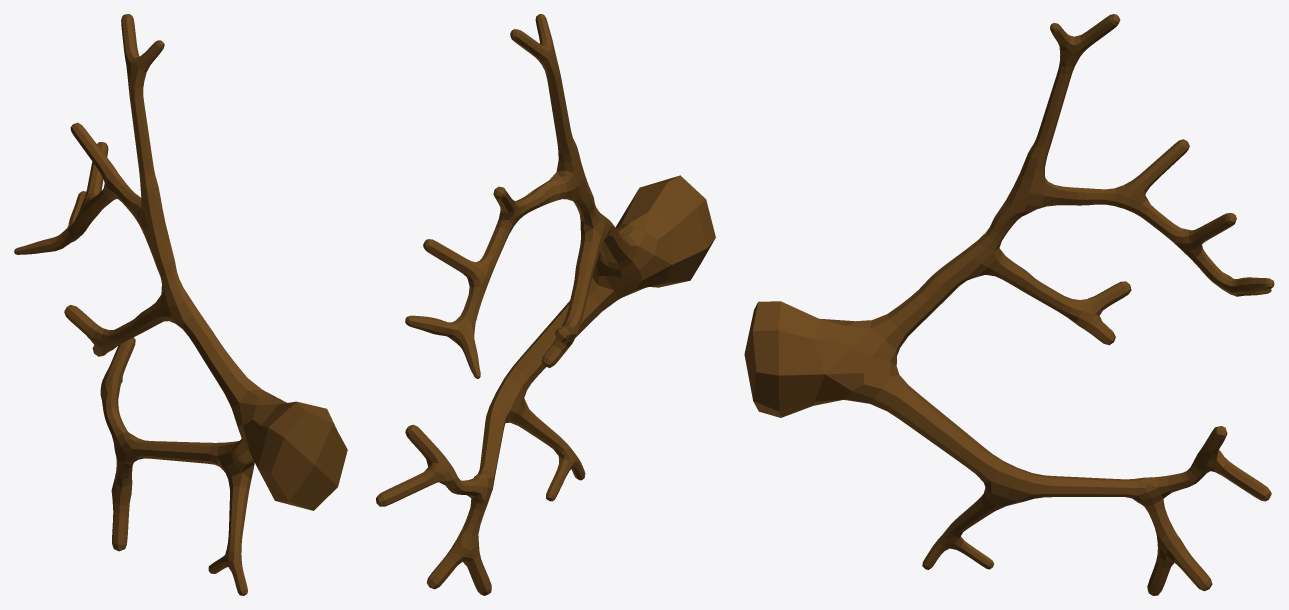
Rendered from Dead_tree_02.fbx.
3 renders of one model, left to right at view 1: azimuth 30°, elevation 25°; view 2: azimuth 150°, elevation 25°; view 3: azimuth 270°, elevation 25°, orthographic. The views are drawn at different scales.
Parts seen in each view (by area): view 1: Cube; view 2: Cube; view 3: Cube.
Boxes of the visible parts, <box> form: Cube: <box>14,14,347,595</box>; Cube: <box>376,14,715,595</box>; Cube: <box>744,14,1274,595</box>.
Bounding box in the file's own units: 60.28 × 252 × 211.
